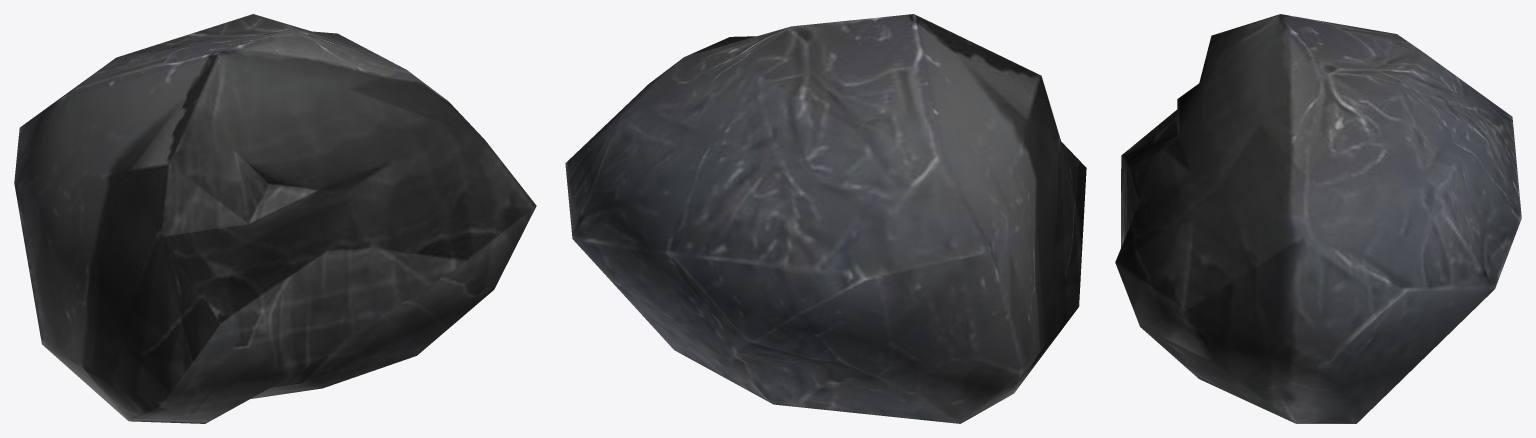
Rendered from rock-chunk-small.glb.
3 renders of one model, left to right at view 1: azimuth 30°, elevation 25°; view 2: azimuth 150°, elevation 25°; view 3: azimuth 270°, elevation 25°, orthographic. The views are drawn at different scales.
Size of the model in its own units: 1.98 by 1.57 by 1.78.
Materials: 1 (1 with a texture image).
